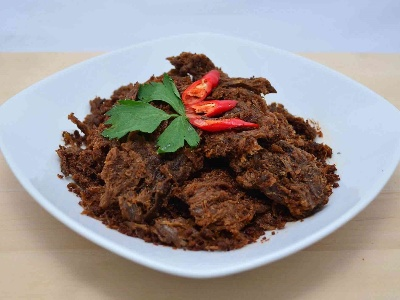rendang: (66, 59, 321, 236)
